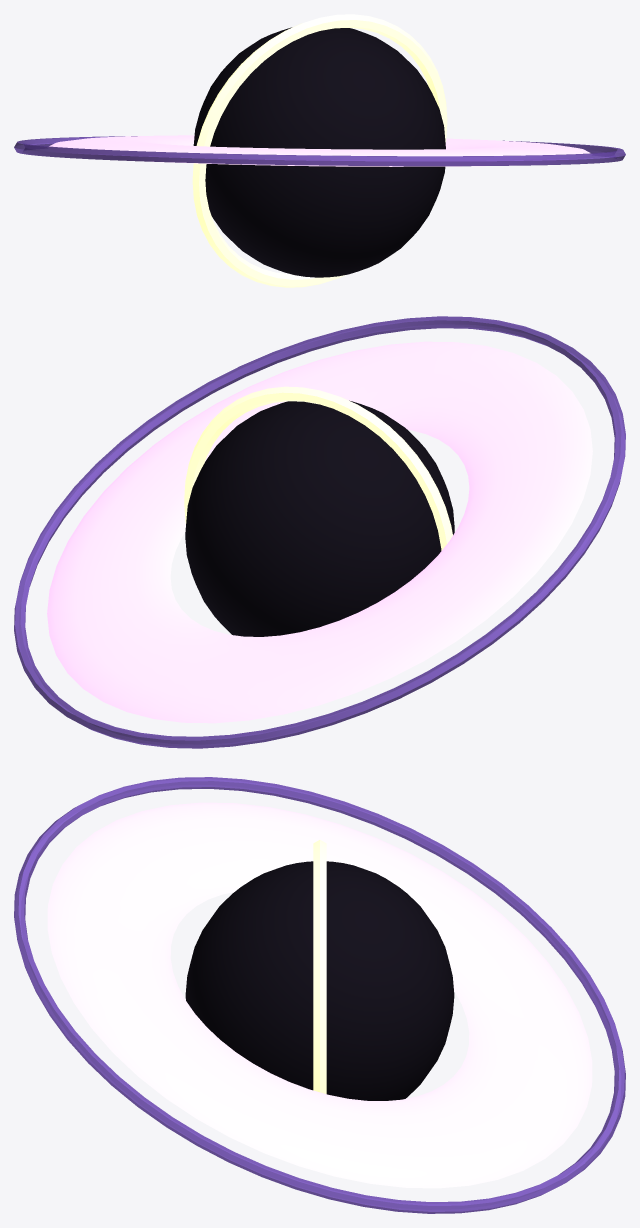
File: BlackHole.fbx
3 renders of one model, top to bottom at view 1: azimuth 30°, elevation 25°; view 2: azimuth 150°, elevation 25°; view 3: azimuth 270°, elevation 25°, orthographic. The views are drawn at different scales.
Parts seen in each view (by area): view 1: BlackHole_Body, BlackHole_NeonRing, BlackHole_Trim, BlackHole_Neon; view 2: BlackHole_Neon, BlackHole_Body, BlackHole_Trim, BlackHole_NeonRing; view 3: BlackHole_Neon, BlackHole_Body, BlackHole_Trim, BlackHole_NeonRing.
Part boxes in pixels (x1,y1,x2,y2): BlackHole_Body: [193, 27, 445, 277]; BlackHole_NeonRing: [192, 14, 447, 287]; BlackHole_Trim: [14, 136, 625, 166]; BlackHole_Neon: [49, 135, 590, 166]; BlackHole_Neon: [47, 341, 592, 723]; BlackHole_Body: [185, 400, 454, 636]; BlackHole_Trim: [14, 316, 625, 748]; BlackHole_NeonRing: [184, 386, 452, 550]; BlackHole_Neon: [47, 802, 592, 1188]; BlackHole_Body: [185, 861, 454, 1100]; BlackHole_Trim: [14, 777, 625, 1213]; BlackHole_NeonRing: [313, 840, 326, 1093].
Size of the model in its own units: 3 by 1.47 by 2.89.
